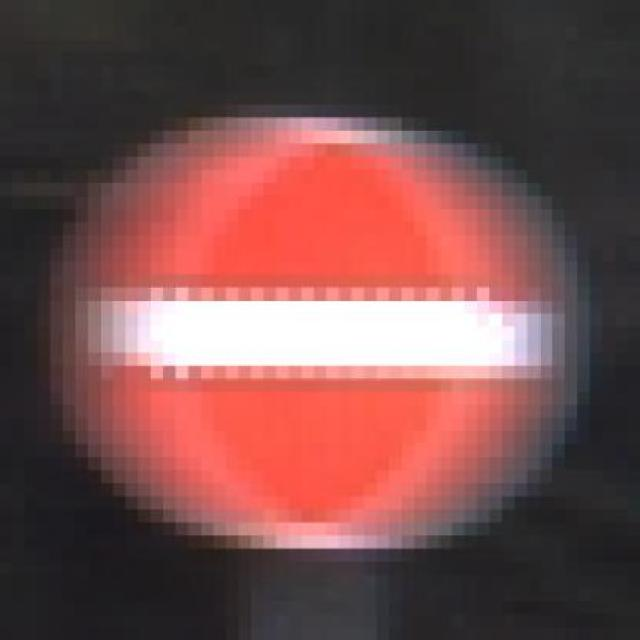No Entry: (38, 52, 602, 588)
